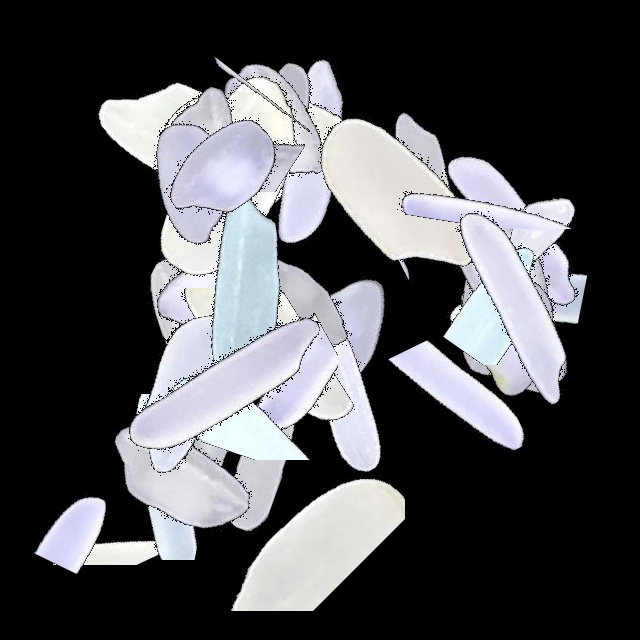Broken: (161, 80, 330, 330), (377, 291, 545, 541), (0, 394, 250, 560), (155, 453, 405, 611), (111, 288, 361, 446), (195, 249, 338, 499), (382, 223, 632, 365), (390, 223, 640, 357), (506, 137, 640, 387), (144, 328, 394, 460), (378, 106, 628, 229), (159, 32, 274, 282), (232, 25, 340, 275), (23, 390, 129, 640), (121, 87, 371, 192), (0, 446, 250, 549), (0, 466, 250, 565), (214, 32, 313, 282), (397, 120, 492, 370), (360, 263, 610, 354), (390, 243, 640, 328), (98, 290, 348, 368), (529, 153, 606, 403)
Full: (75, 15, 325, 265), (186, 27, 436, 277), (65, 194, 315, 444), (390, 210, 640, 460), (298, 59, 548, 309), (220, 203, 470, 453), (223, 282, 473, 532), (92, 172, 342, 422), (122, 11, 372, 261), (147, 1, 397, 251), (373, 178, 623, 428), (390, 104, 640, 354), (161, 168, 411, 418), (137, 331, 387, 581), (374, 153, 624, 403), (147, 0, 397, 250), (390, 211, 640, 461), (274, 71, 524, 321), (77, 286, 327, 536), (106, 50, 356, 300), (54, 352, 304, 602), (59, 268, 309, 518), (389, 179, 639, 429), (77, 25, 327, 275), (66, 59, 316, 309), (117, 163, 367, 413), (99, 258, 349, 508)
